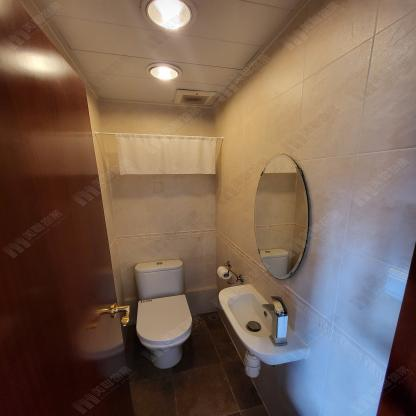Exhaust Fan: (174, 89, 216, 106)
Faucet: (258, 293, 295, 349)
Toilet: (135, 258, 191, 367)
Toilet Sink: (220, 283, 310, 365)
